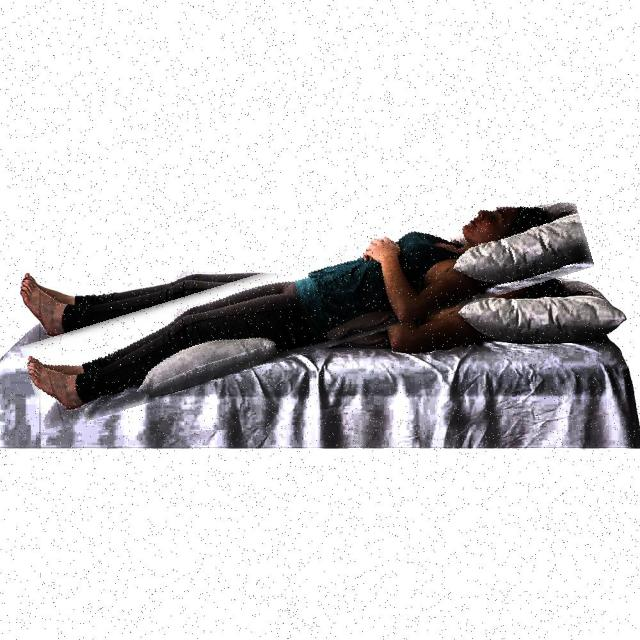Supine: (27, 205, 576, 409)
